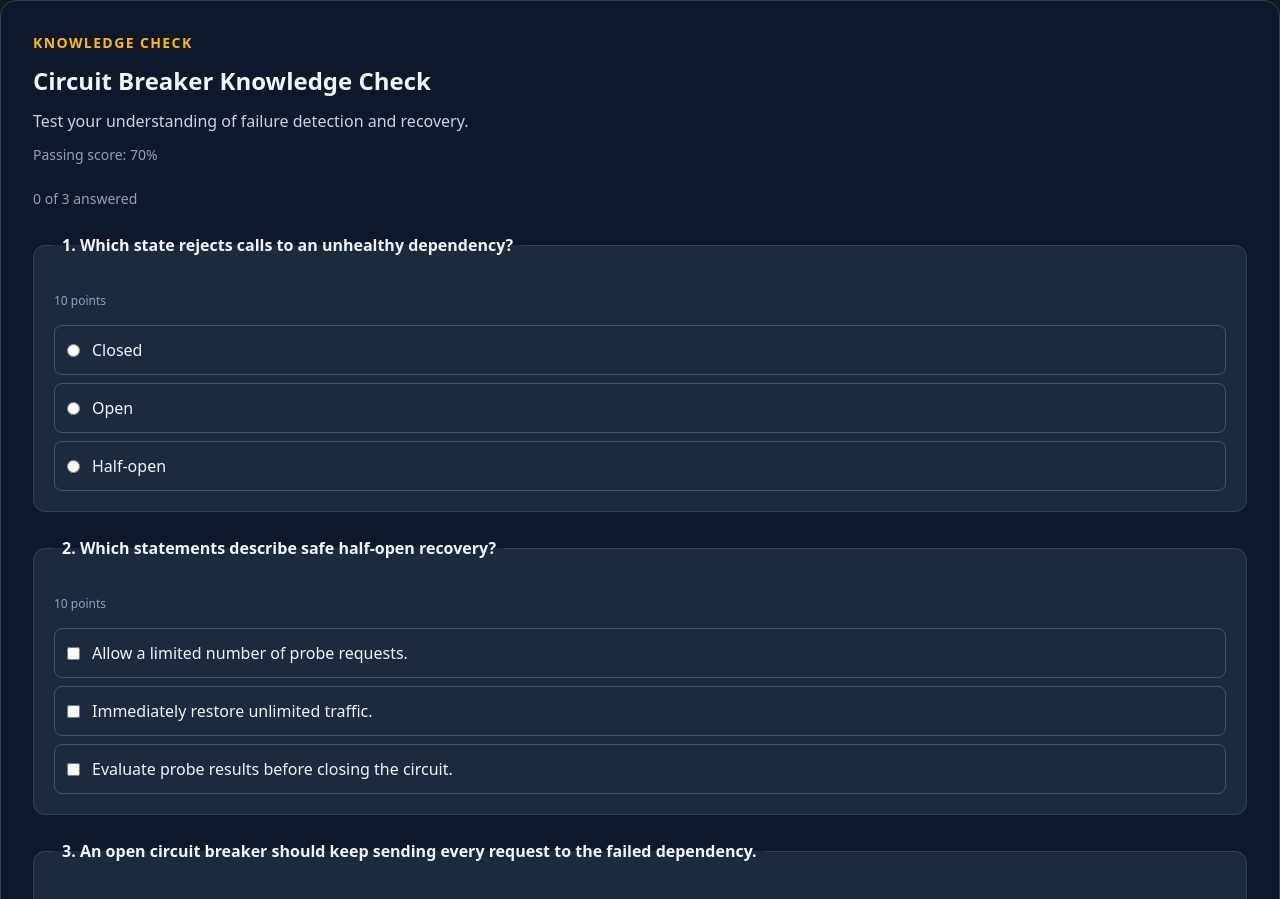
it: QuizPlayer › submits correct answers and shows a passing result
Step 1. Click the radio button labelled "Open" → (74, 408), box x1=67 y1=402 x2=80 y2=414
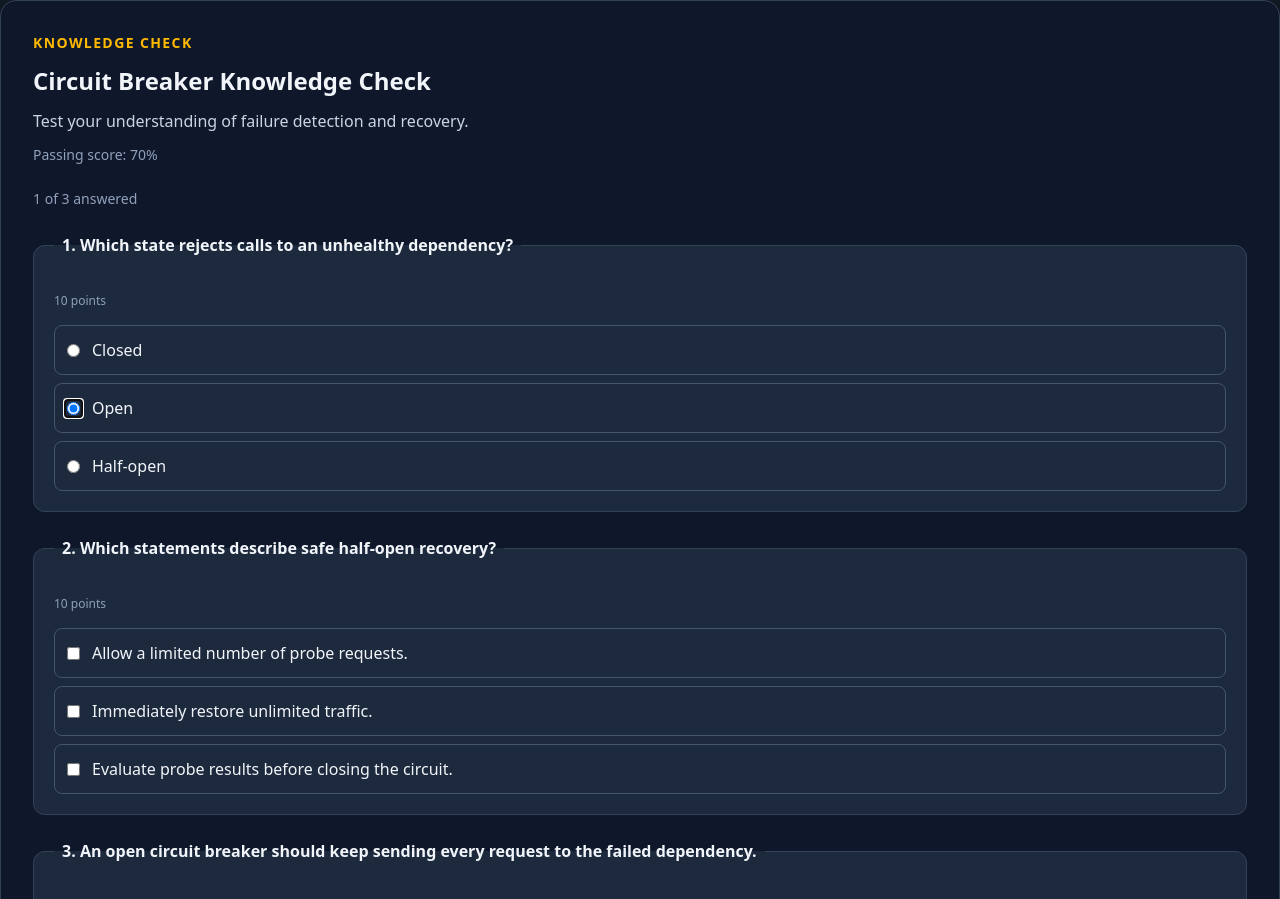
Step 2. Click the checkbox labelled "Allow a limited number of probe requests." → (74, 653), box x1=67 y1=646 x2=80 y2=660
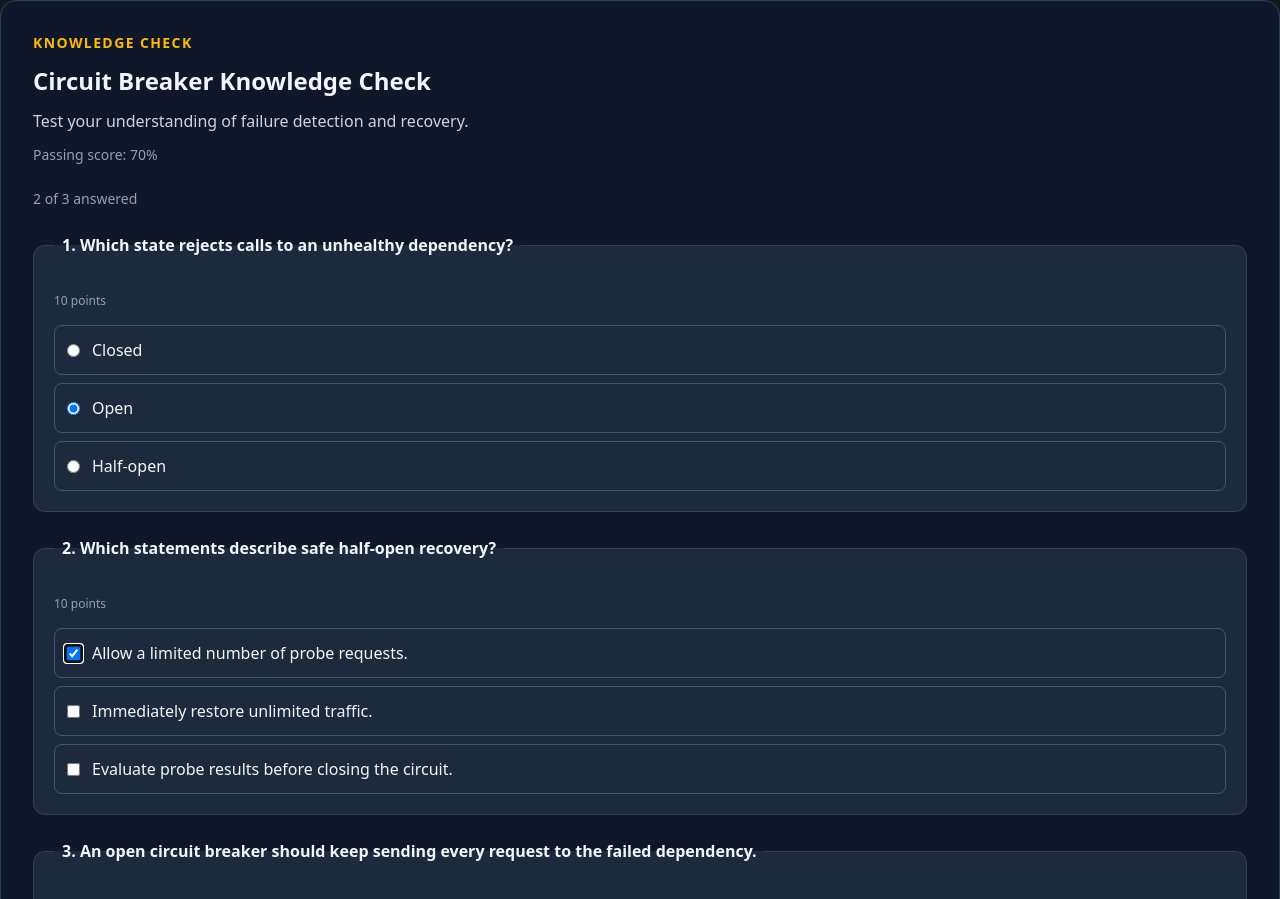
Step 3. Click the checkbox labelled "Evaluate probe results before closing the circuit." → (74, 769), box x1=67 y1=762 x2=80 y2=776
(page scrolled)
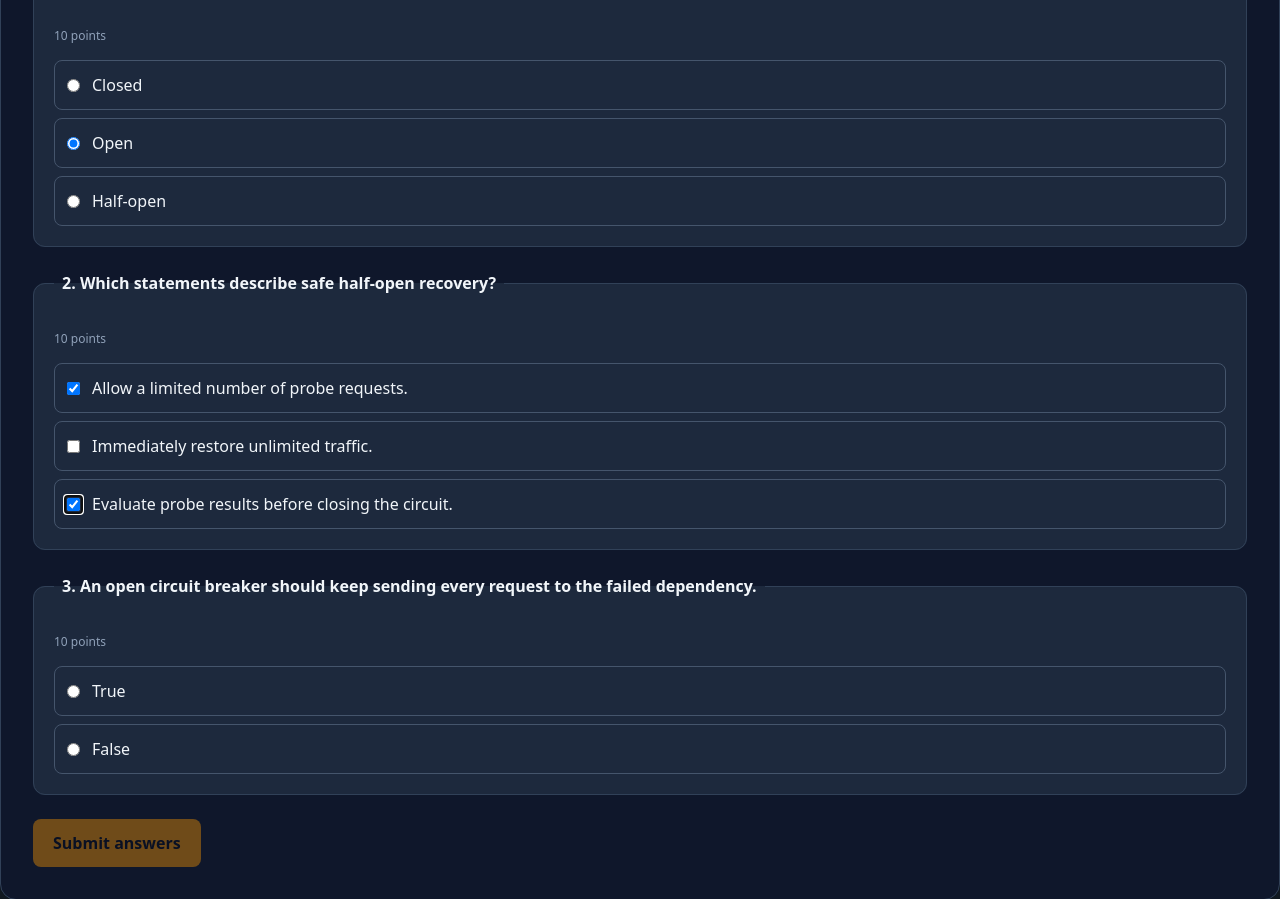
Step 4. Click the radio button labelled "False" → (74, 749), box x1=67 y1=742 x2=80 y2=756
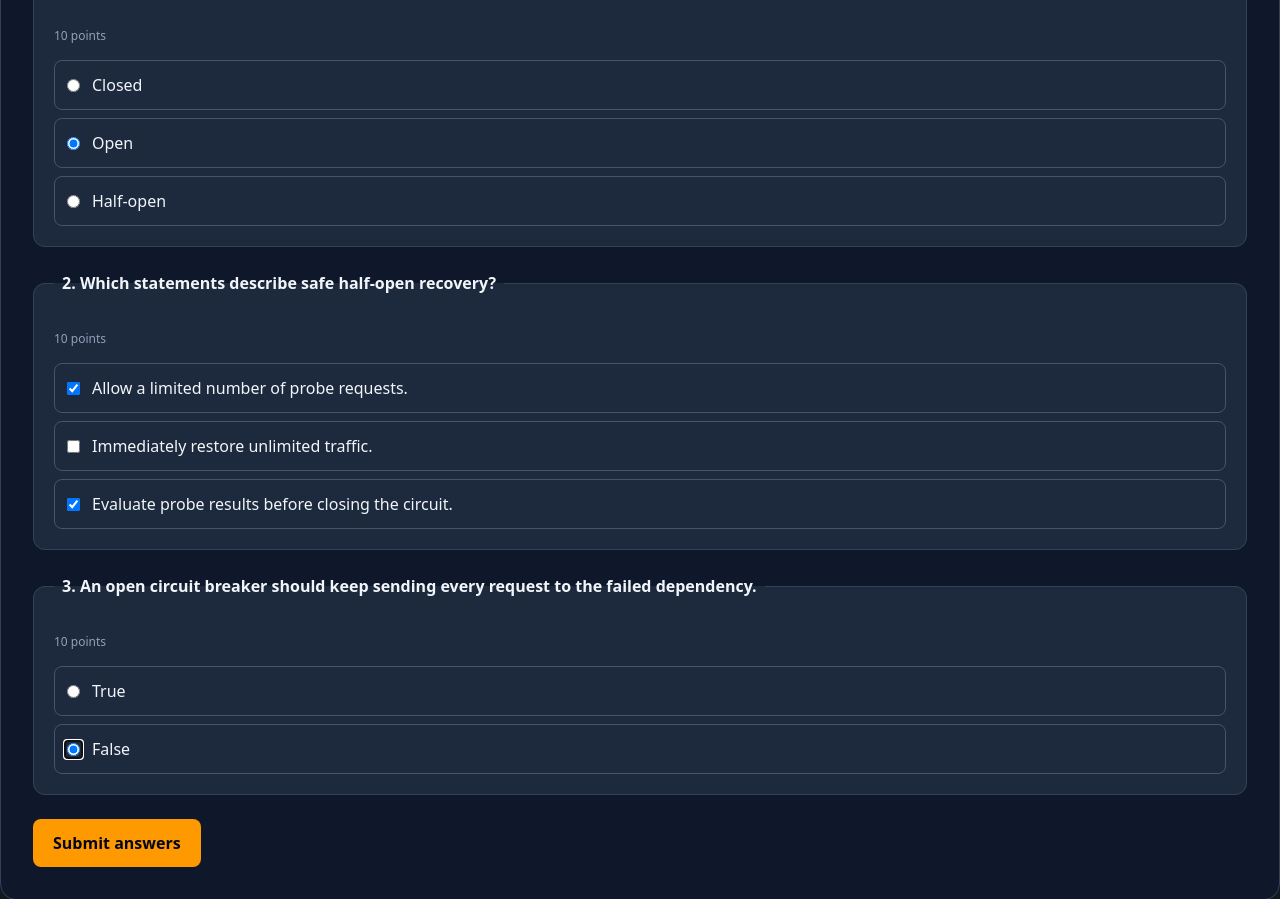
Step 5. Click the button "Submit answers" → (117, 843), box x1=33 y1=819 x2=201 y2=867
(page scrolled)
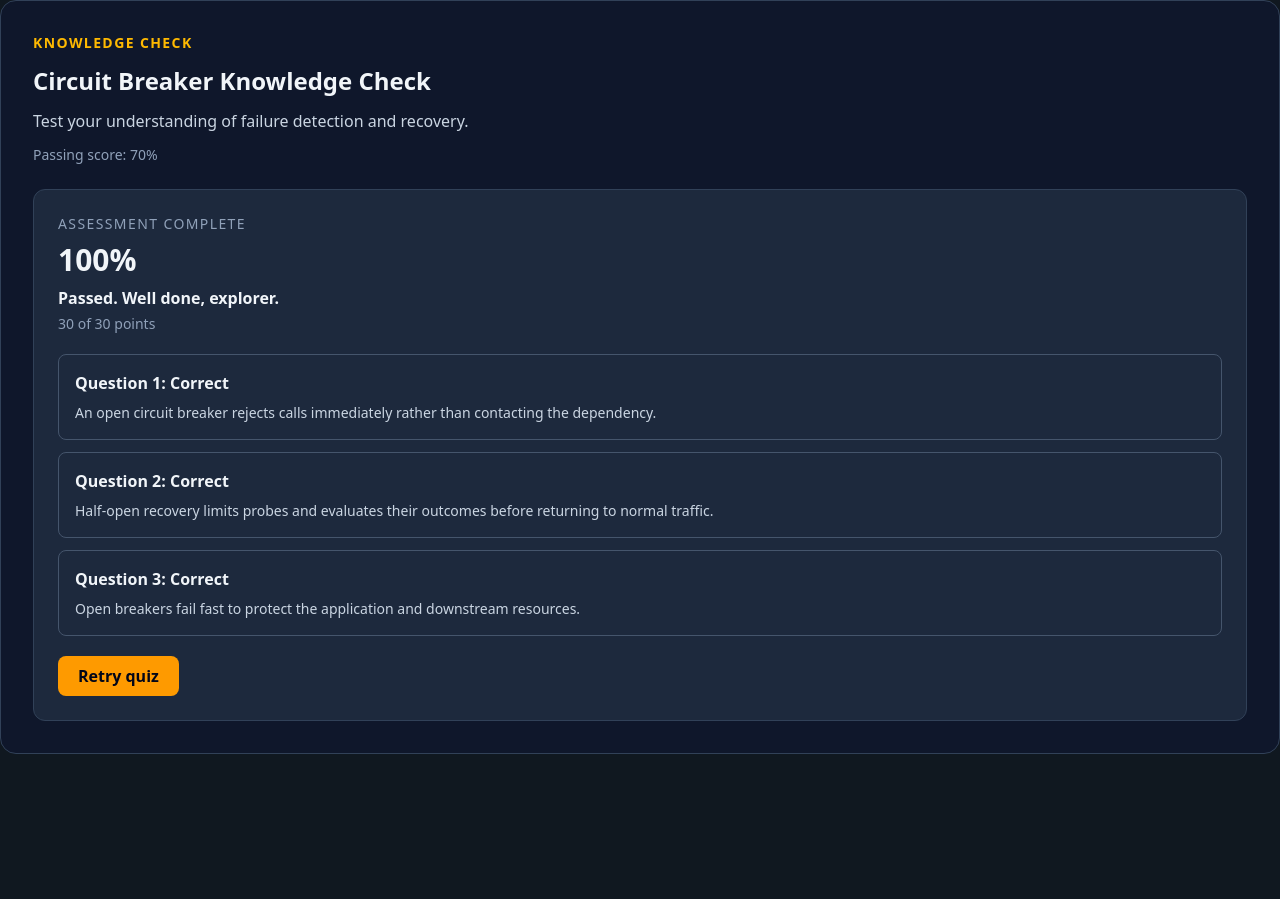
Expected: the heading "100%" is shown, x1=58 y1=239 x2=136 y2=280
Expected: the text "Passed. Well done, explorer." is shown, x1=58 y1=287 x2=279 y2=309
